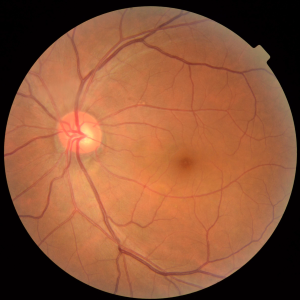healthy_eye: (33, 92, 253, 199)
